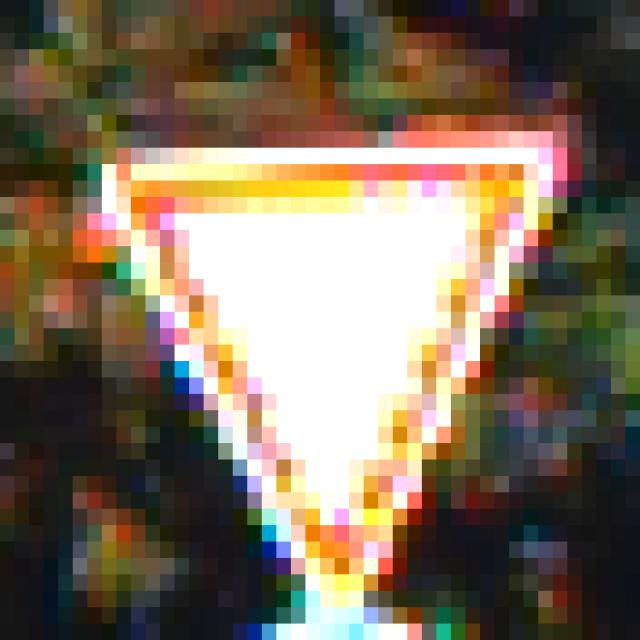Give Way: (89, 83, 569, 559)
